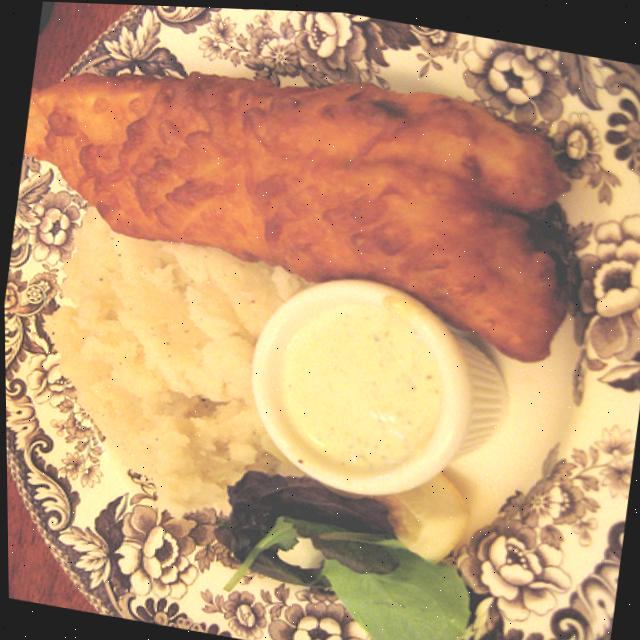炸货点心: (8, 21, 628, 343)
熟制海鲜: (8, 21, 628, 343)
